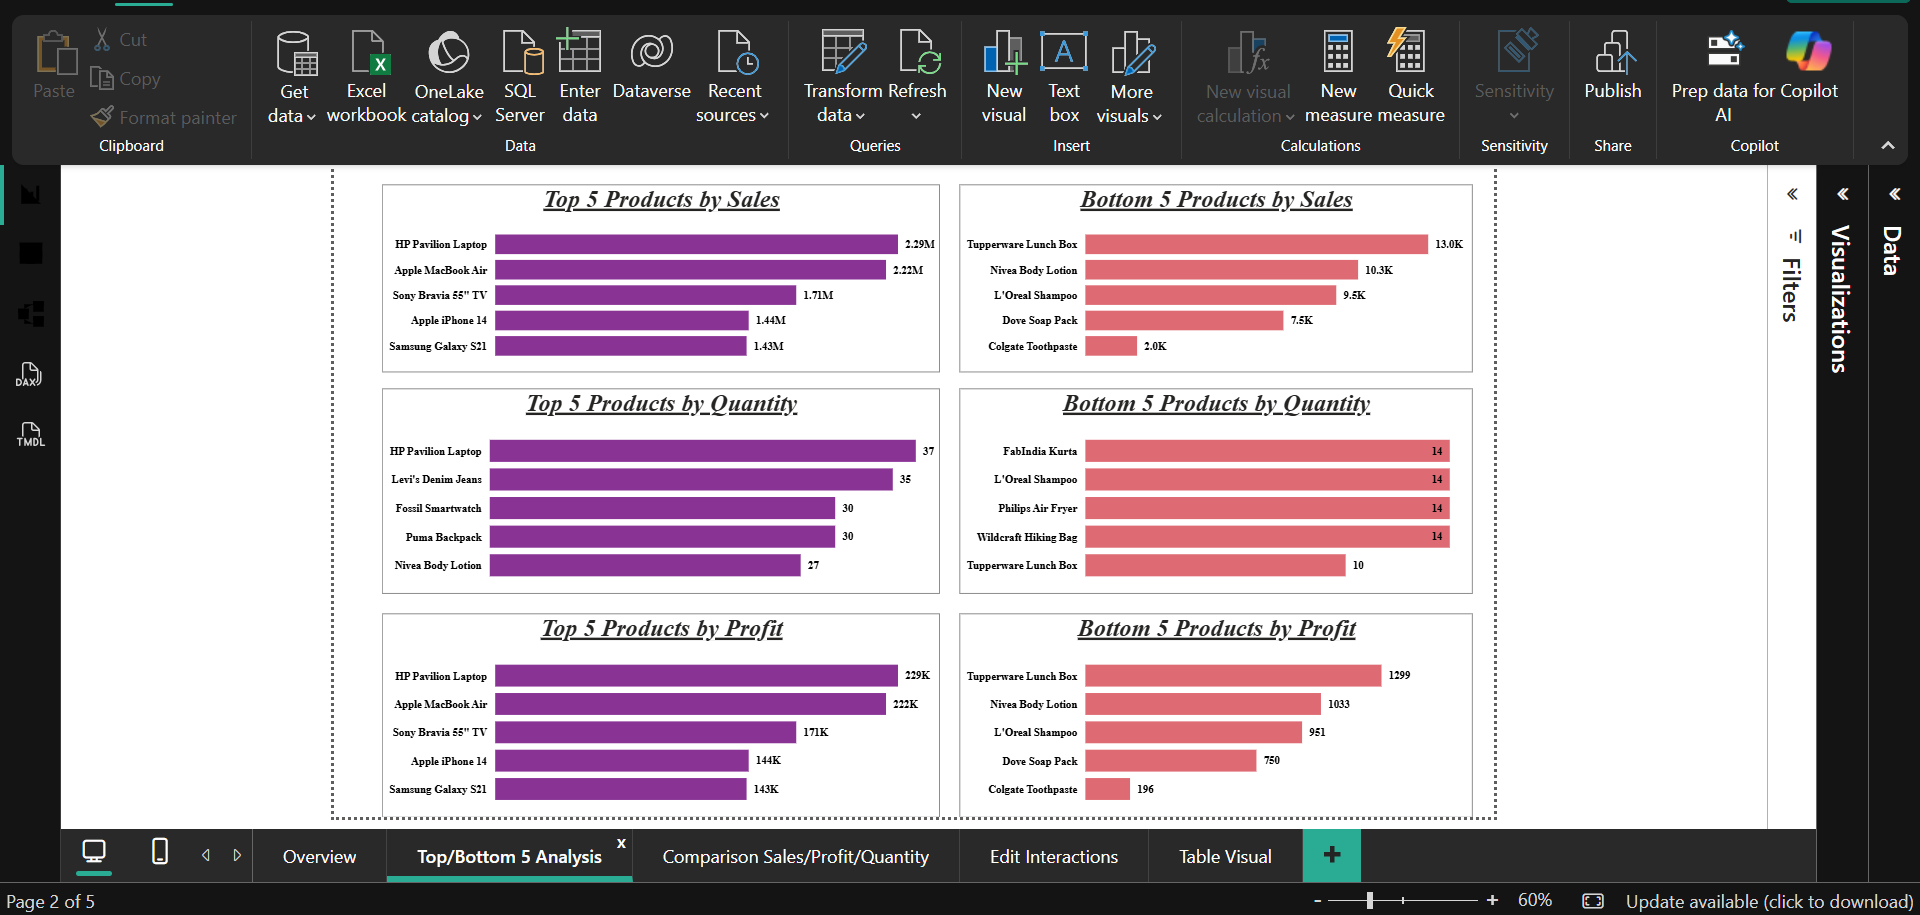

Layout of this report page (visuals, bound fields, positions):
{"tool":"powerbi","page":{"name":"Top/Bottom 5 Analysis","canvas":[1280,720],"ordinal":1},"visuals":[{"type":"barChart","title":"Top 5 Products by Sales","fields":{"Category":["Dim Product.Product Name"],"Y":["Sum(Fact Table.Net Sales)"]},"box":[53,21.5,616.2,207.1],"z":0},{"type":"barChart","title":"Bottom 5 Products by Sales","fields":{"Category":["Dim Product.Product Name"],"Y":["Sum(Fact Table.Net Sales)"]},"box":[690.8,21.5,566.5,207.1],"z":1000},{"type":"barChart","title":"Top 5 Products by Quantity","fields":{"Category":["Dim Product.Product Name"],"Y":["Sum(Fact Table.Units Sold)"]},"box":[53,246.8,616.2,226.9],"z":2000},{"type":"barChart","title":"Bottom 5 Products by Quantity","fields":{"Category":["Dim Product.Product Name"],"Y":["Sum(Fact Table.Units Sold)"]},"box":[690.8,246.8,566.5,226.9],"z":3000},{"type":"barChart","title":"Top 5 Products by Profit","fields":{"Category":["Dim Product.Product Name"],"Y":["Sum(Fact Table.Profit)"]},"box":[53,495.3,616.2,225.3],"z":4000},{"type":"barChart","title":"Bottom 5 Products by Profit","fields":{"Category":["Dim Product.Product Name"],"Y":["Sum(Fact Table.Profit)"]},"box":[690.8,495.3,566.5,225.3],"z":5000}]}

Visuals, with their boxes on the page's 1280x720 design canvas (x1, y1, x2, y2). These are canvas units, not pixel positions in the 1920x915 screenshot, which may show the page scaled, cropped or inside an application window:
"Top 5 Products by Sales" barChart: 53,22,669,229
"Bottom 5 Products by Sales" barChart: 691,22,1257,229
"Top 5 Products by Quantity" barChart: 53,247,669,474
"Bottom 5 Products by Quantity" barChart: 691,247,1257,474
"Top 5 Products by Profit" barChart: 53,495,669,721
"Bottom 5 Products by Profit" barChart: 691,495,1257,721
